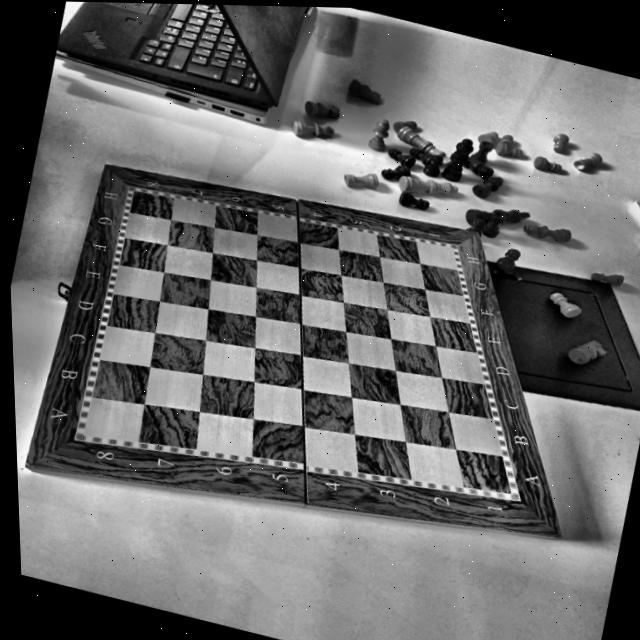chessboard: (26, 164, 562, 537)
